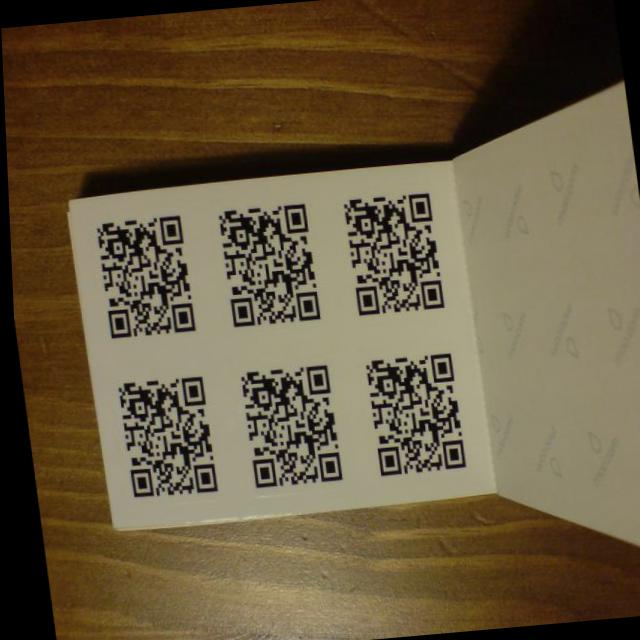qrcode: (216, 204, 318, 327), (237, 365, 338, 487), (362, 353, 462, 475), (341, 193, 441, 315), (93, 215, 192, 338), (114, 376, 213, 498)
